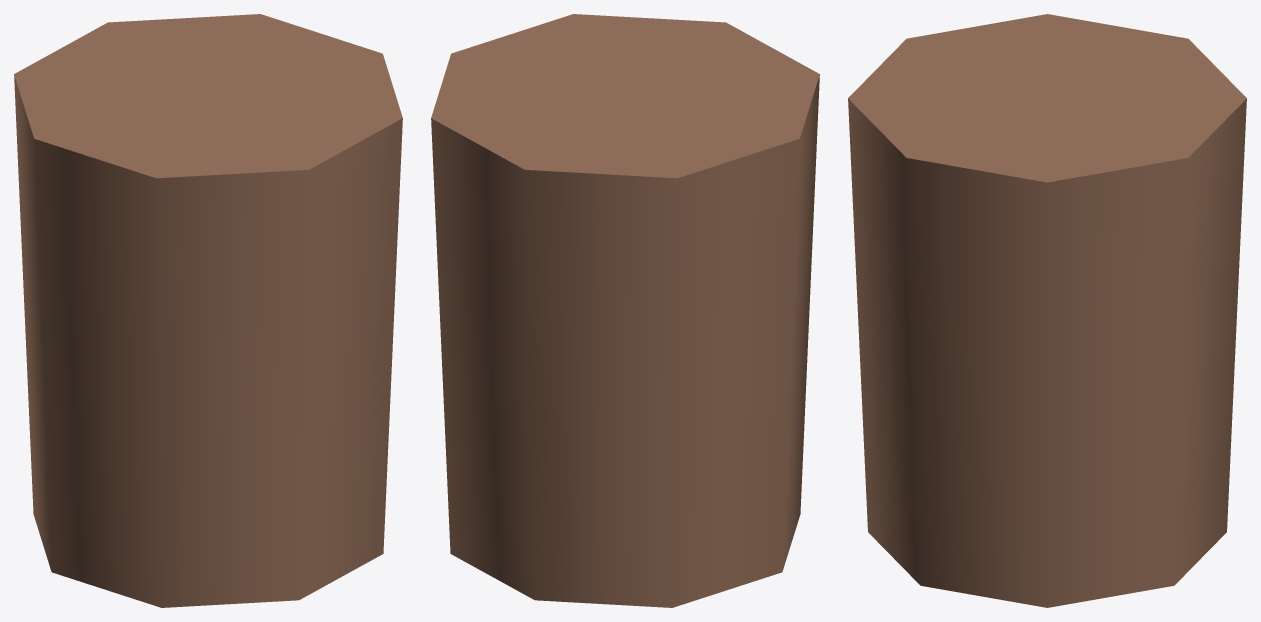
File: neck.obj
The picture shows the model from 3 angles, left to right: view 1: azimuth 30°, elevation 25°; view 2: azimuth 150°, elevation 25°; view 3: azimuth 270°, elevation 25°; orthographic projection.
Parts seen in each view (by area): view 1: neck; view 2: neck; view 3: neck.
Part boxes in pixels (box(x1,y1,x2,y2)): neck: box(14, 14, 402, 607); neck: box(431, 14, 819, 607); neck: box(848, 14, 1246, 607).
Bounding box in the file's own units: 0.0686 × 0.0823 × 0.0686.
